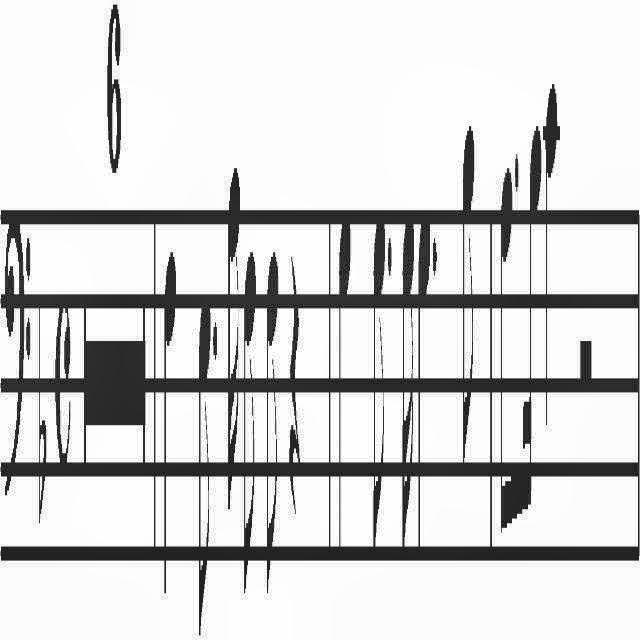Bemol: (36, 285, 48, 559)
Eighth-note: (498, 140, 514, 580), (261, 212, 279, 588), (460, 112, 478, 482), (243, 225, 259, 619), (370, 176, 386, 566), (194, 289, 212, 631)
Quarter-note: (160, 216, 176, 596), (336, 176, 352, 550), (542, 80, 558, 448), (416, 203, 430, 572)
Quarter-rest: (288, 204, 302, 576)
Sixteenth-note: (522, 91, 542, 532), (226, 136, 240, 518), (400, 183, 414, 564)
